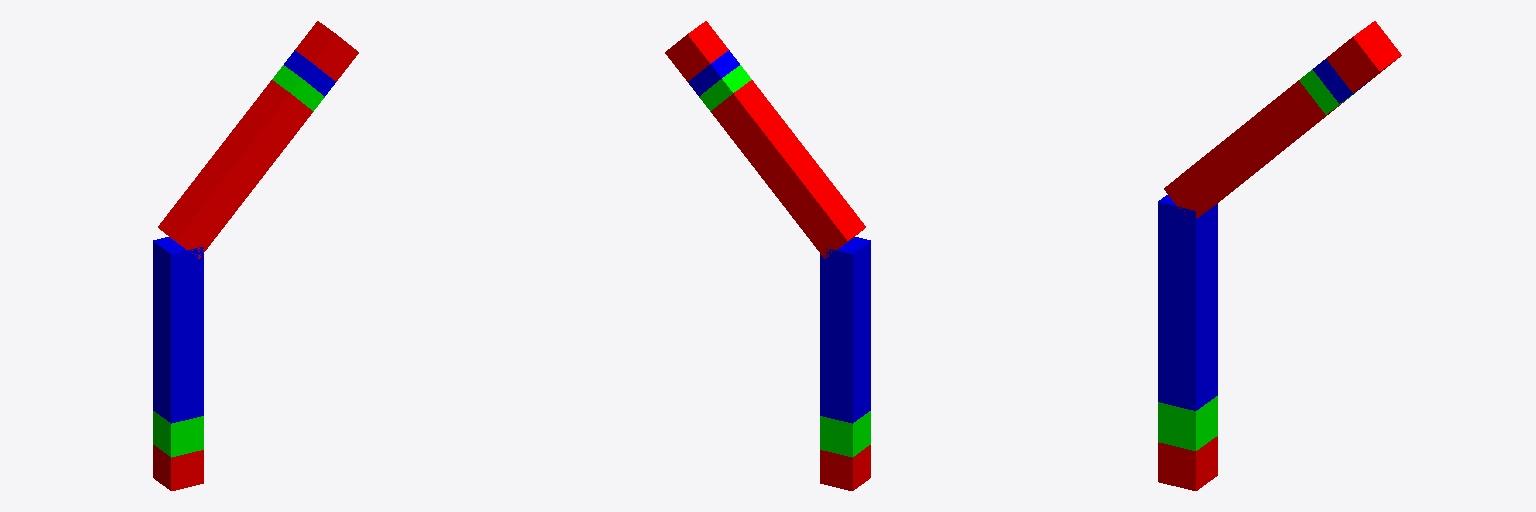
URDF robot description (revolute_mimic_3):
<?xml version="1.0"?>
<robot name="revolute_mimic_3">
  <link name="base_link">
    <visual>
      <origin xyz="0 0 0.1" rpy="0 0 0" />
      <geometry>
        <box size="0.2 0.2 0.2" />
      </geometry>
      <material name="red">
        <color rgba="1 0 0 1" />
      </material>
    </visual>
  </link>

  <link name="link1">
    <visual>
      <origin xyz="0 0 0.1" rpy="0 0 0" />
      <geometry>
        <box size="0.2 0.2 0.2" />
      </geometry>
      <material name="green">
        <color rgba="0 1 0 1" />
      </material>
    </visual>
  </link>

  <link name="link2">
    <visual>
      <origin xyz="0 0 0.5" rpy="0 0 0" />
      <geometry>
        <box size="0.2 0.2 1.0" />
      </geometry>
      <material name="blue">
        <color rgba="0 0 1 1" />
      </material>
    </visual>
  </link>

  <link name="link3">
    <visual>
      <origin xyz="0 0 0.5" rpy="0 0 0" />
      <geometry>
        <box size="0.2 0.2 1.0" />
      </geometry>
      <material name="red">
        <color rgba="1 0 0 1" />
      </material>
    </visual>
  </link>

  <link name="link4">
    <visual>
      <origin xyz="0 0 0.05" rpy="0 0 0" />
      <geometry>
        <box size="0.2 0.2 0.1" />
      </geometry>
      <material name="green">
        <color rgba="0 1 0 1" />
      </material>
    </visual>
  </link>

  <link name="link5">
    <visual>
      <origin xyz="0 0 0.05" rpy="0 0 0" />
      <geometry>
        <box size="0.2 0.2 0.1" />
      </geometry>
      <material name="blue">
        <color rgba="0 0 1 1" />
      </material>
    </visual>
  </link>

  <link name="link6">
    <visual>
      <origin xyz="0 0 0.1" rpy="0 0 0" />
      <geometry>
        <box size="0.2 0.2 0.2" />
      </geometry>
      <material name="red">
        <color rgba="1 0 0 1" />
      </material>
    </visual>
  </link>

  <joint name="joint1" type="revolute">
    <parent link="base_link"/>
    <child link="link1"/>
    <origin xyz="0 0 0.2" rpy="0 0 0" />
    <axis xyz="0 0 1" />
    <limit lower="-2.36" upper="2.36" effort="1" velocity="1" />
  </joint>

  <joint name="joint2" type="revolute">
    <parent link="link1"/>
    <child link="link2"/>
    <origin xyz="0 0 0.2" rpy="0 0 0" />
    <axis xyz="0 1 0" />
    <limit lower="-2.36" upper="2.36" effort="1" velocity="1" />
  </joint>

  <joint name="joint3" type="revolute">
    <parent link="link2"/>
    <child link="link3"/>
    <origin xyz="0 0 1.0" rpy="0 0 0" />
    <axis xyz="0 1 0" />
    <limit lower="-2.36" upper="2.36" effort="1" velocity="1" />
    <mimic joint="joint2" multiplier="1.0" offset="0.785398" />
  </joint>

  <joint name="joint4" type="revolute">
    <parent link="link3"/>
    <child link="link4"/>
    <origin xyz="0 0 1.0" rpy="0 0 0" />
    <axis xyz="0 1 0" />
    <limit lower="-2.36" upper="2.36" effort="1" velocity="1" />
  </joint>

  <joint name="joint5" type="revolute">
    <parent link="link4"/>
    <child link="link5"/>
    <origin xyz="0 0 0.1" rpy="0 0 0" />
    <axis xyz="1 0 0" />
    <limit lower="-2.36" upper="2.36" effort="1" velocity="1" />
  </joint>

  <joint name="joint6" type="revolute">
    <parent link="link5"/>
    <child link="link6"/>
    <origin xyz="0 0 0.1" rpy="0 0 0" />
    <axis xyz="0 0 1" />
    <limit lower="-2.36" upper="2.36" effort="1" velocity="1" />
  </joint>


</robot>

--- Render facts (derived) ---
3 views of the same robot in one strip: view 1: azimuth 30°, elevation 25°; view 2: azimuth 150°, elevation 25°; view 3: azimuth 330°, elevation 25° (orthographic).
Model revolute_mimic_3 with 7 links and 6 joints (6 revolute), rooted at base_link, posed every joint at zero.
Links seen in each view (by area): view 1: link3, link2, link6, base_link, link1, link4, link5; view 2: link3, link2, link6, base_link, link1, link4, link5; view 3: link2, link3, link6, base_link, link1, link4, link5.
Link boxes in pixels (box(x1,y1,x2,y2)): link3: box(158, 80, 312, 258); link2: box(153, 237, 203, 423); link6: box(295, 21, 358, 81); base_link: box(153, 445, 203, 490); link1: box(153, 411, 203, 457); link4: box(272, 65, 324, 111); link5: box(284, 50, 335, 96); link3: box(711, 80, 865, 258); link2: box(820, 237, 870, 423); link6: box(665, 21, 728, 81); base_link: box(820, 445, 870, 490); link1: box(820, 411, 870, 457); link4: box(699, 65, 751, 111); link5: box(688, 50, 739, 96); link2: box(1158, 195, 1217, 410); link3: box(1164, 80, 1344, 218); link6: box(1326, 21, 1401, 92); base_link: box(1158, 436, 1217, 490); link1: box(1158, 396, 1217, 450); link4: box(1299, 69, 1355, 114); link5: box(1313, 59, 1369, 103).
Bounding box of the posed robot: 1.16 × 0.2 × 2.46 m (x, y, z).
Geometry: primitives only (box / cylinder / sphere), no mesh files.
